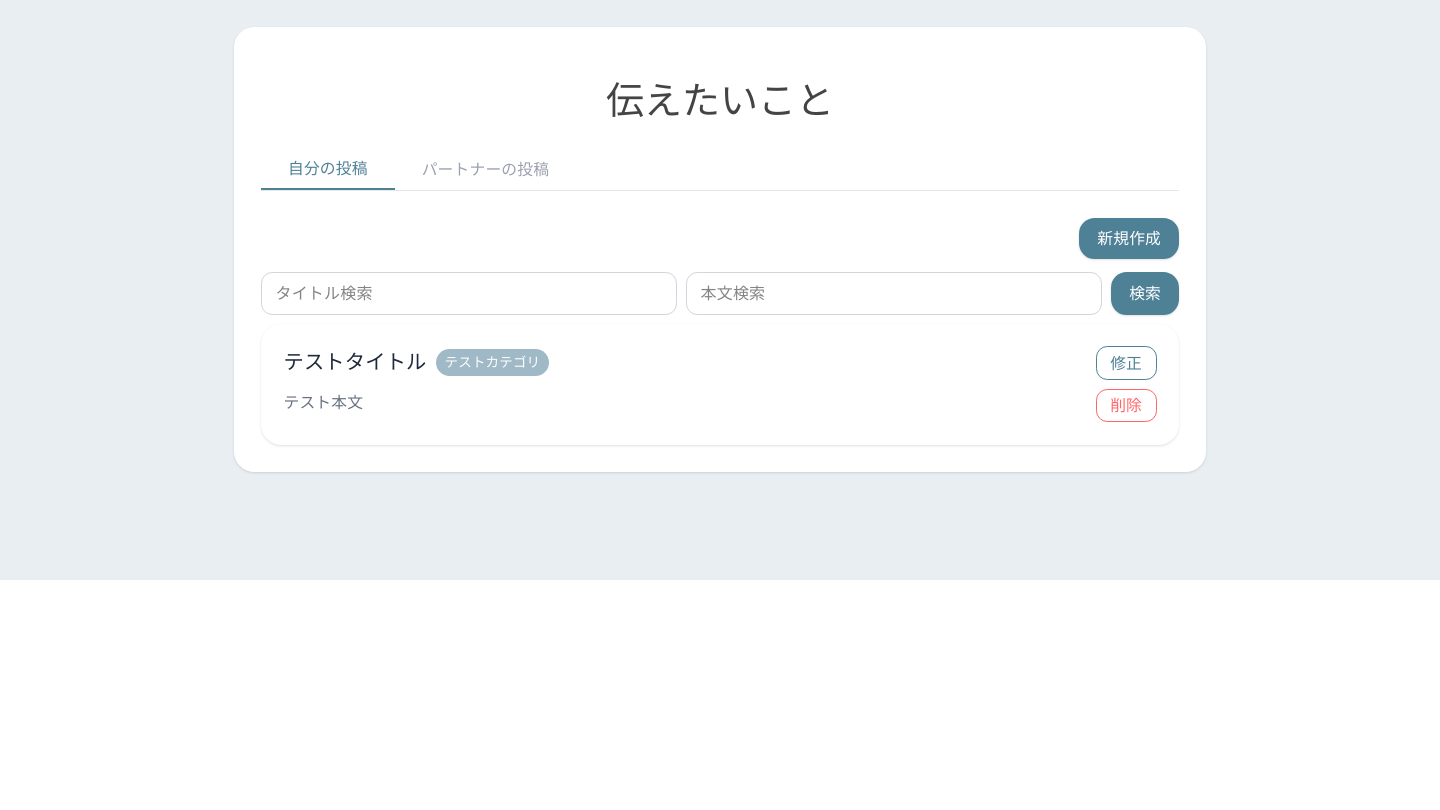
Test: PostList › 自分の投稿タブ › 新規作成ボタンをクリックすると新規画面に遷移する
The image size is (1440, 810).
Click the button "新規作成".
click(1129, 238)  # box [1079,218,1179,259]
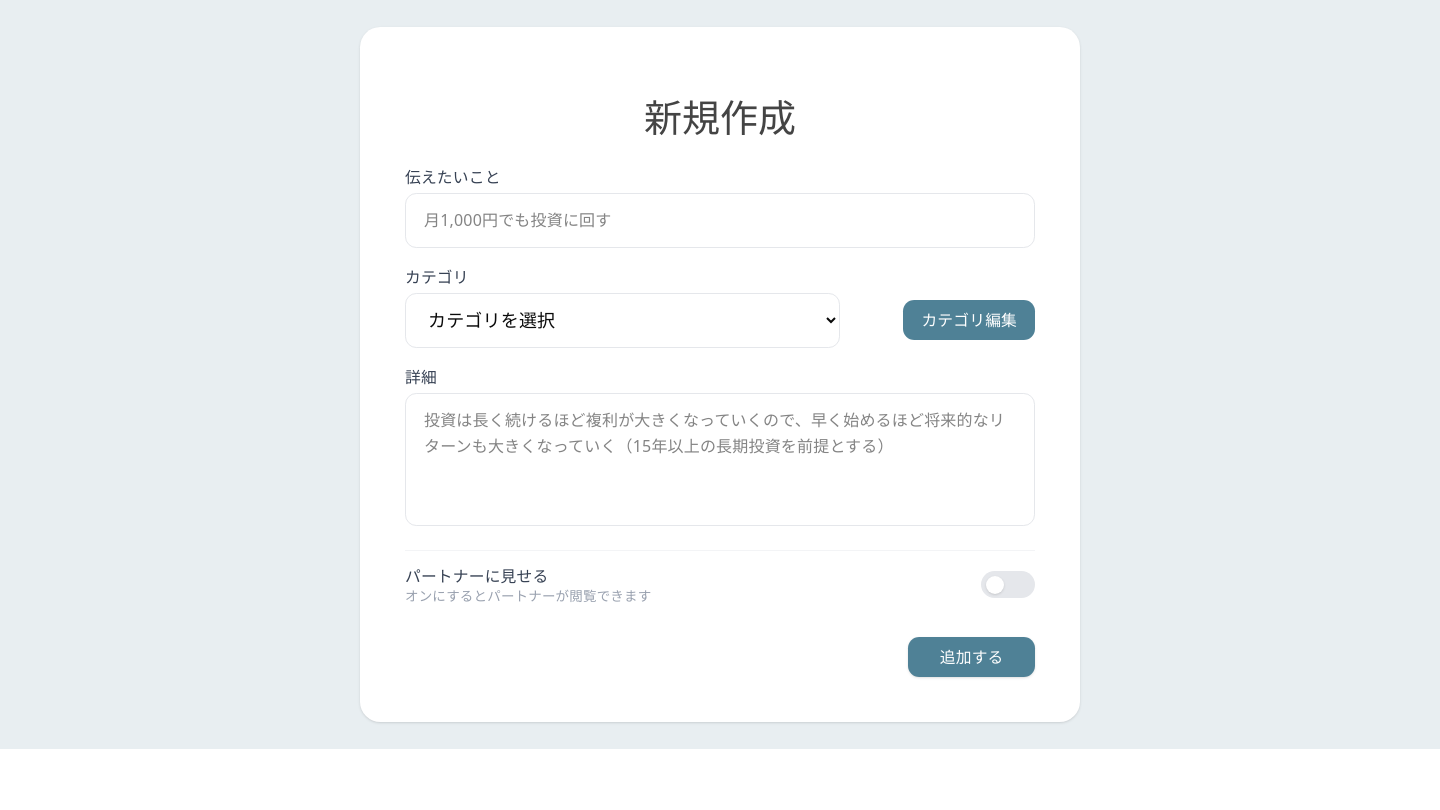
Result: the heading "新規作成" is shown at [644,90,796,142]
